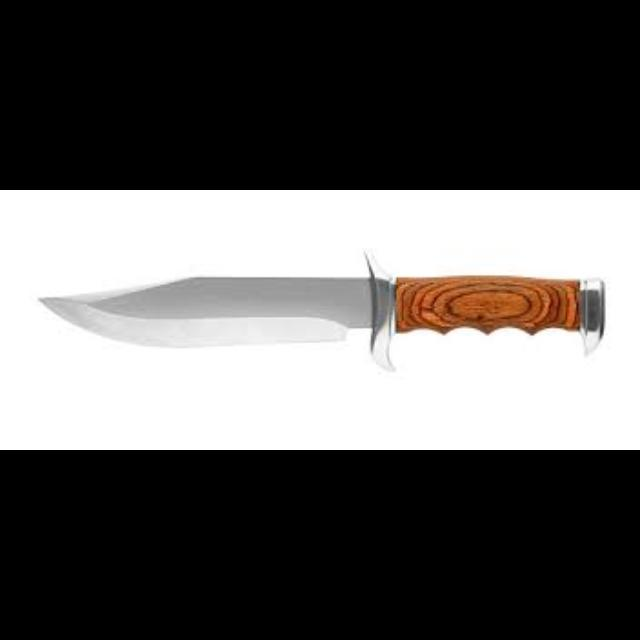Knife: (37, 248, 606, 369)
